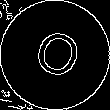O_S: (26, 24, 84, 86)
